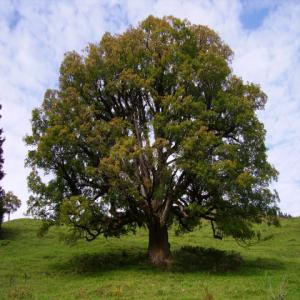Tree: (23, 13, 282, 262)
